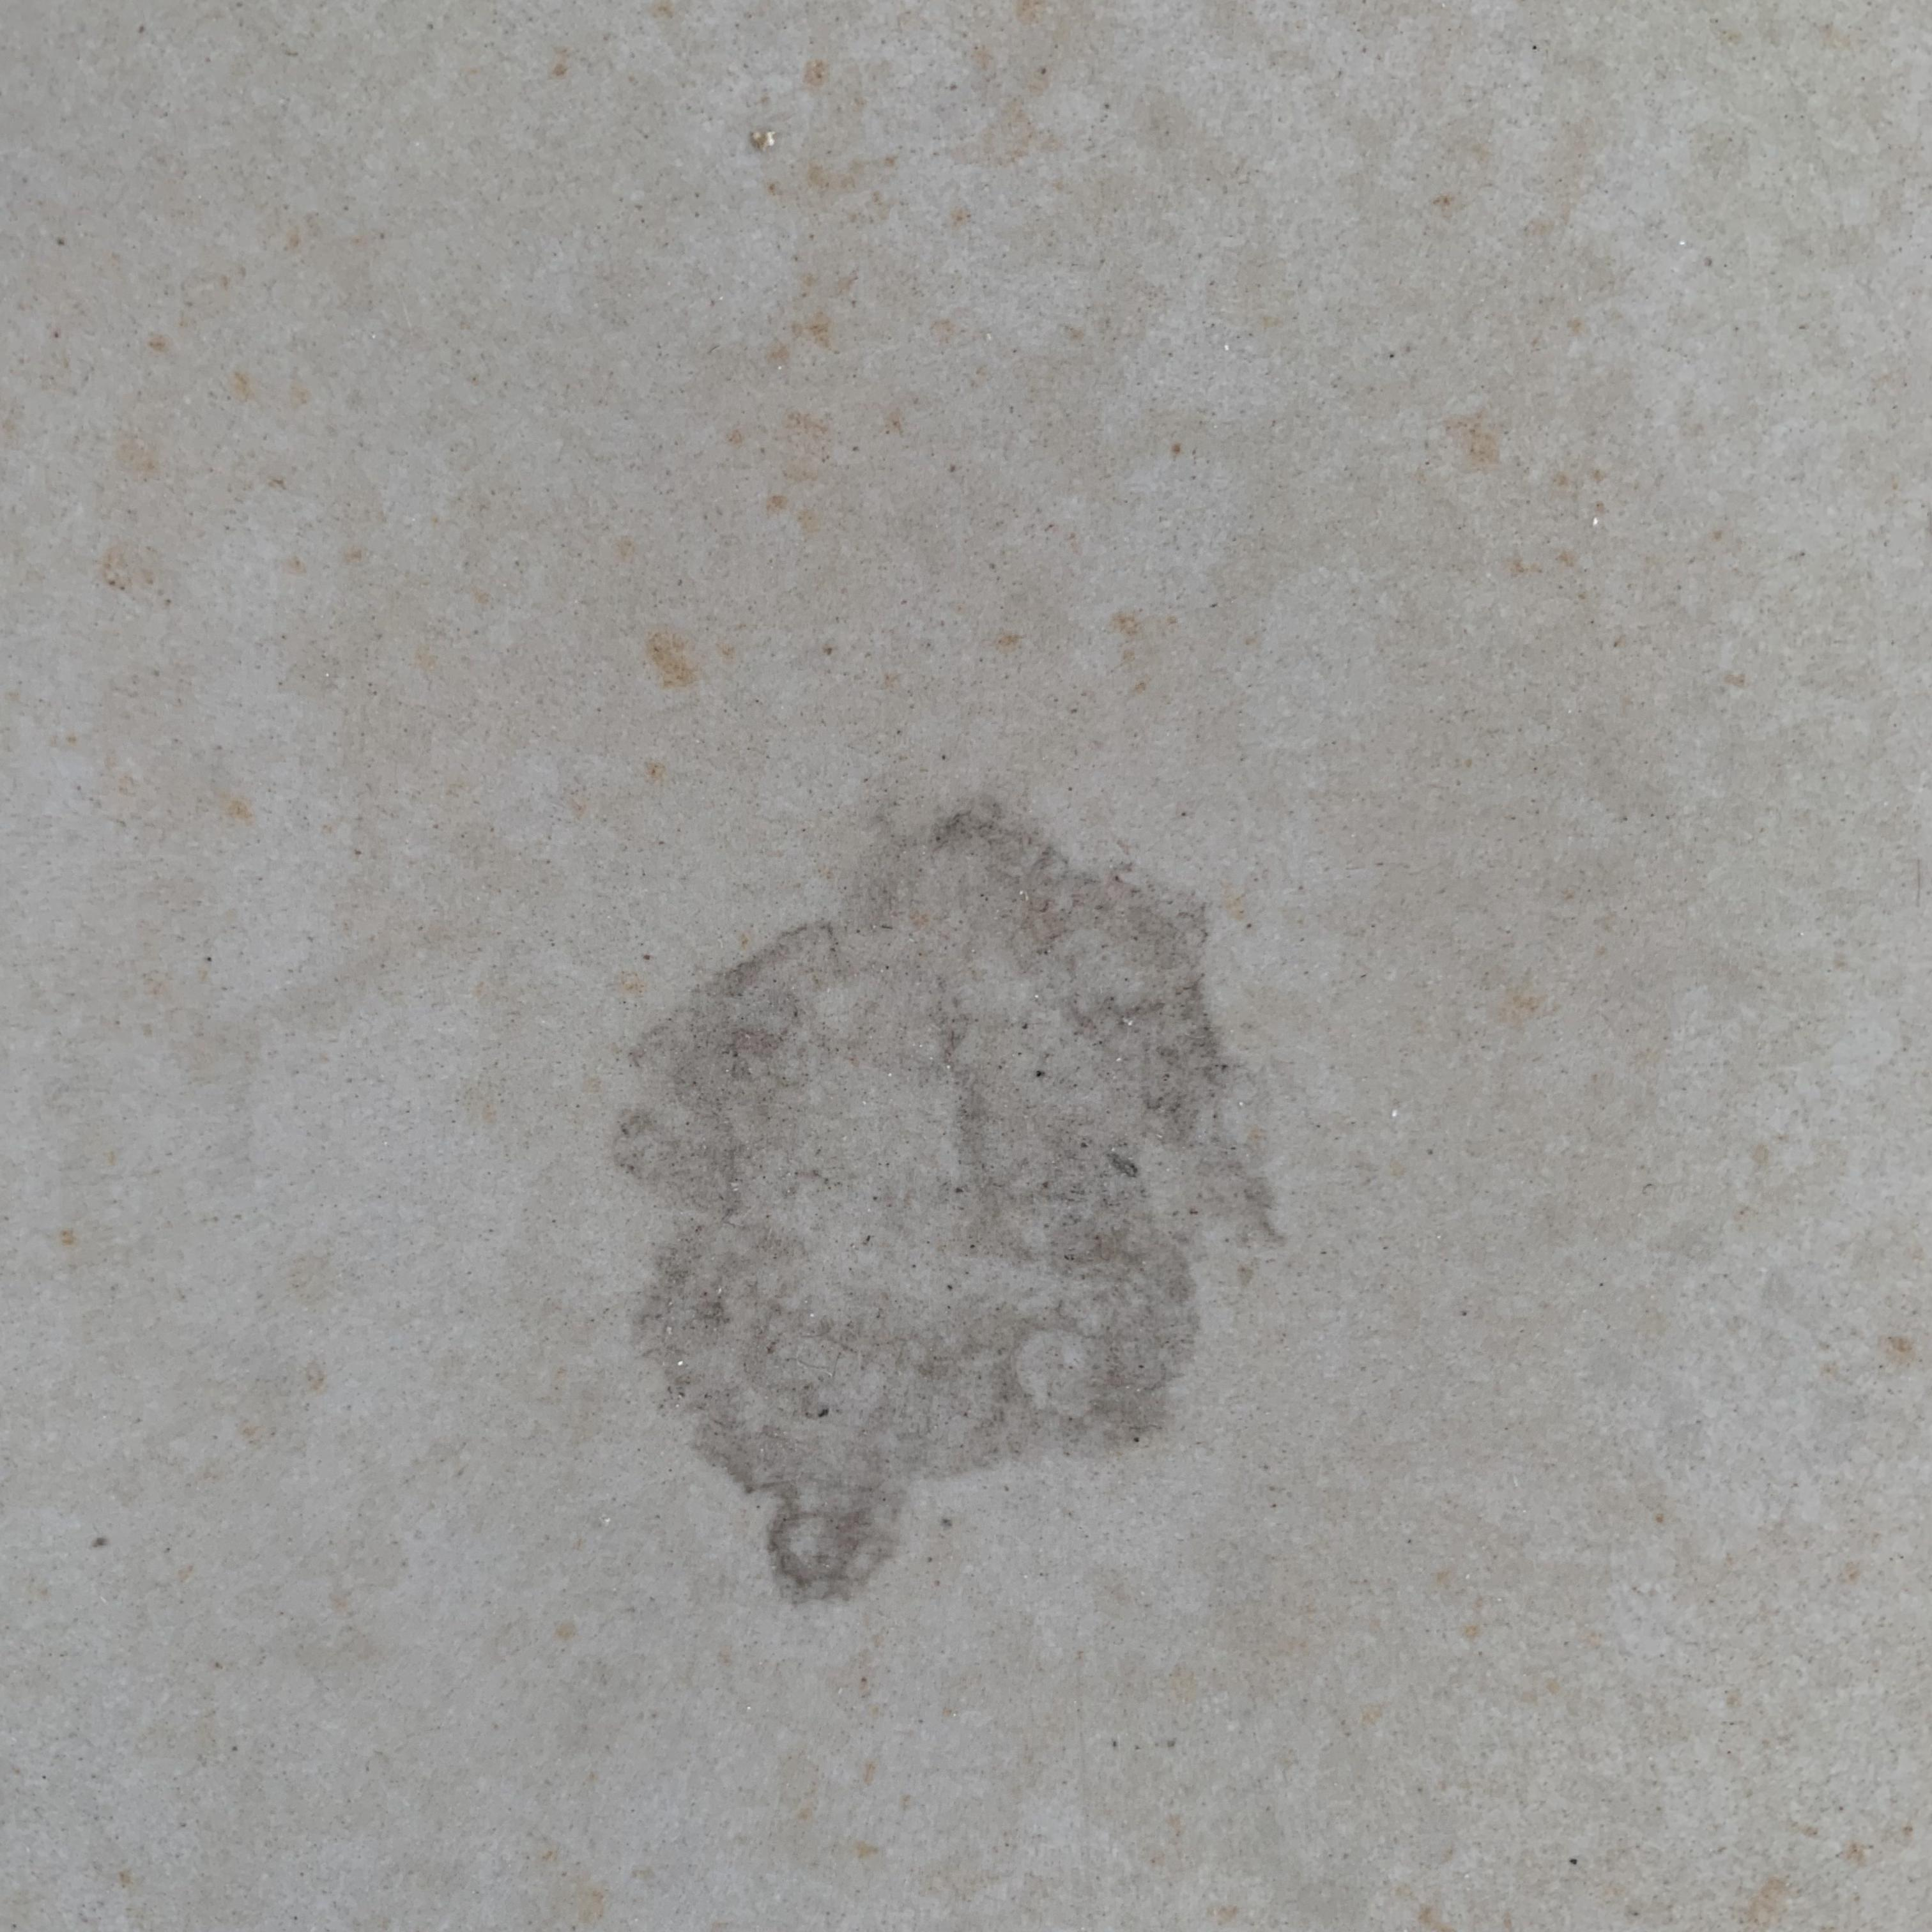grey spot: (610, 805, 1283, 1608)
